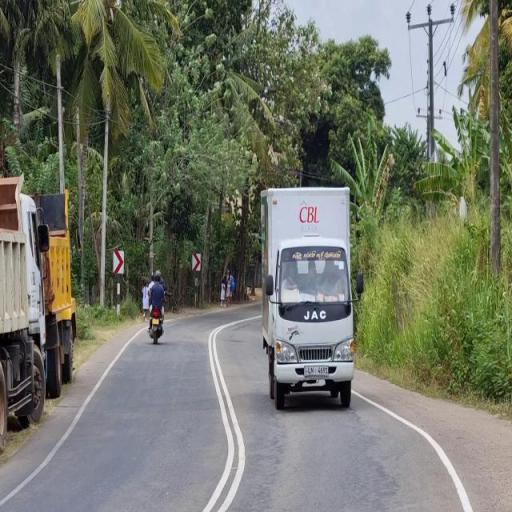double_white_line: (203, 318, 251, 510)
